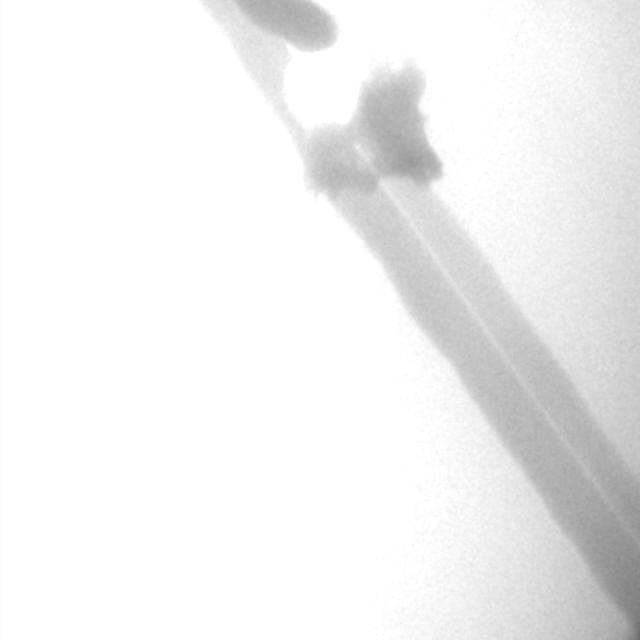broken arc: (236, 4, 635, 538)
